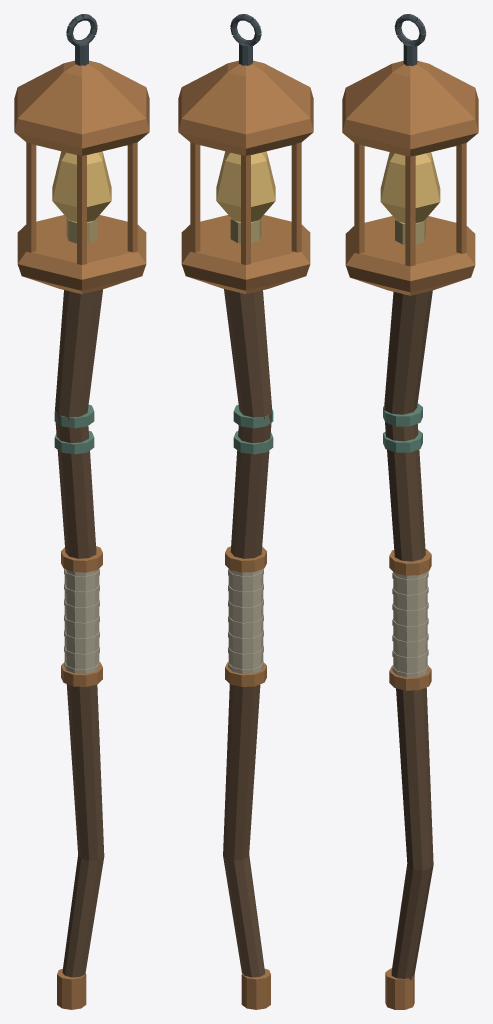
Rendered from SWW_LighthouseStaff.fbx.
The picture shows the model from 3 angles, left to right: view 1: azimuth 30°, elevation 25°; view 2: azimuth 150°, elevation 25°; view 3: azimuth 330°, elevation 25°; orthographic projection.
Visible parts, largest first — view 1: SWW_LighthouseStaff; view 2: SWW_LighthouseStaff; view 3: SWW_LighthouseStaff.
Boxes of the visible parts, x1,y1,x2,y2 form: SWW_LighthouseStaff: [14, 14, 149, 1009]; SWW_LighthouseStaff: [178, 14, 313, 1009]; SWW_LighthouseStaff: [342, 14, 478, 1009].
Bounding box in the file's own units: 0.326 × 2.27 × 0.2823.
